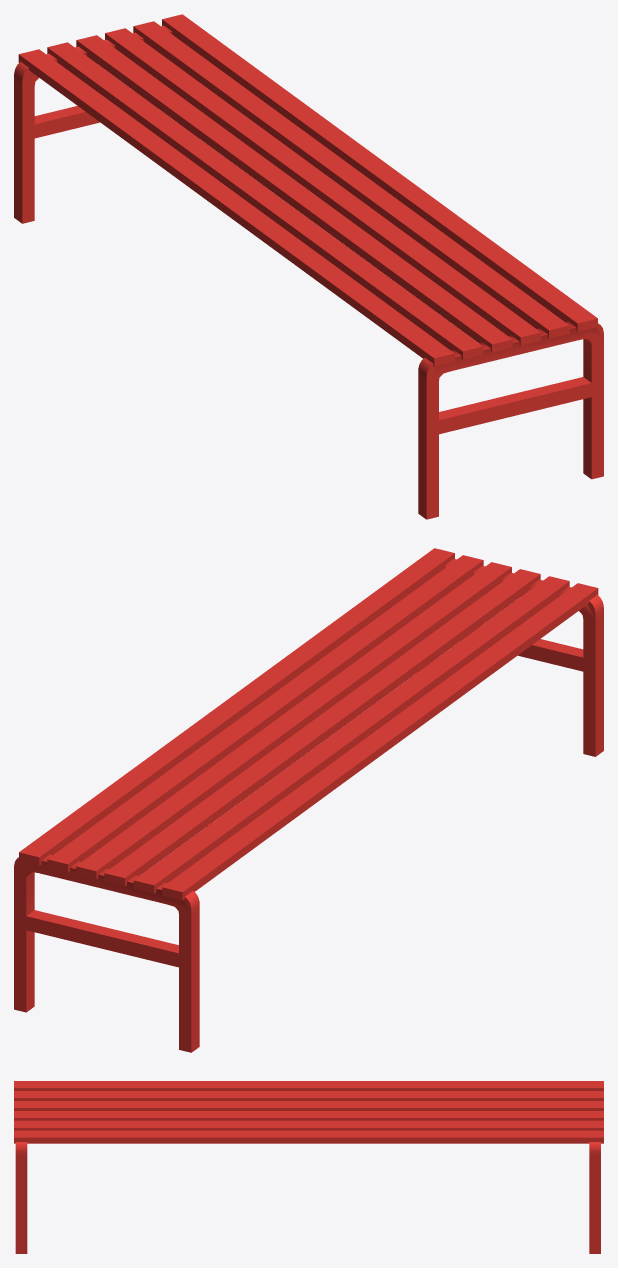
File: Banco.fbx
3 renders of one model, top to bottom at view 1: azimuth 30°, elevation 25°; view 2: azimuth 150°, elevation 25°; view 3: azimuth 270°, elevation 25°, orthographic. The views are drawn at different scales.
Parts seen in each view (by area): view 1: Cube.018; view 2: Cube.018; view 3: Cube.018.
Part boxes in pixels (x1,y1,x2,y2): Cube.018: (14, 14, 603, 519); Cube.018: (14, 548, 603, 1052); Cube.018: (14, 1081, 603, 1253).
Size of the model in its own units: 50.7 by 43.79 by 206.
